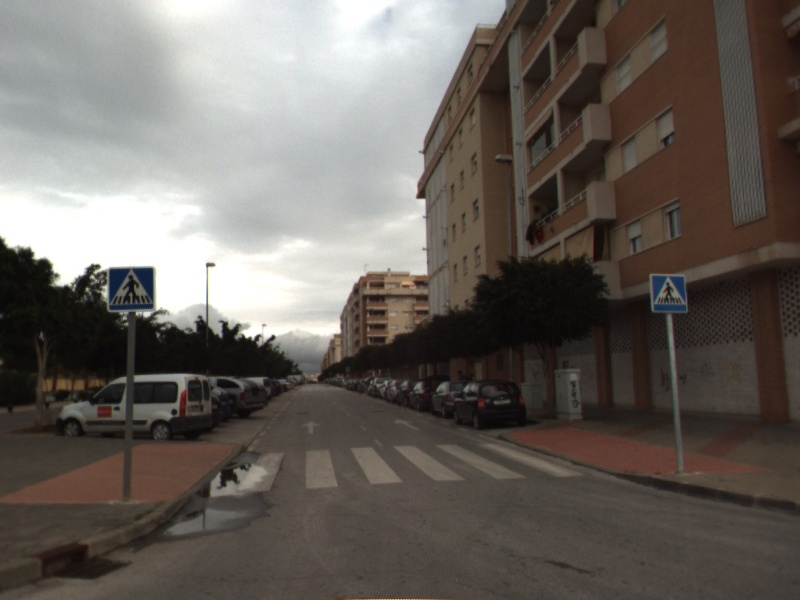STRAIGHT: (392, 417, 422, 432), (299, 419, 323, 436)
